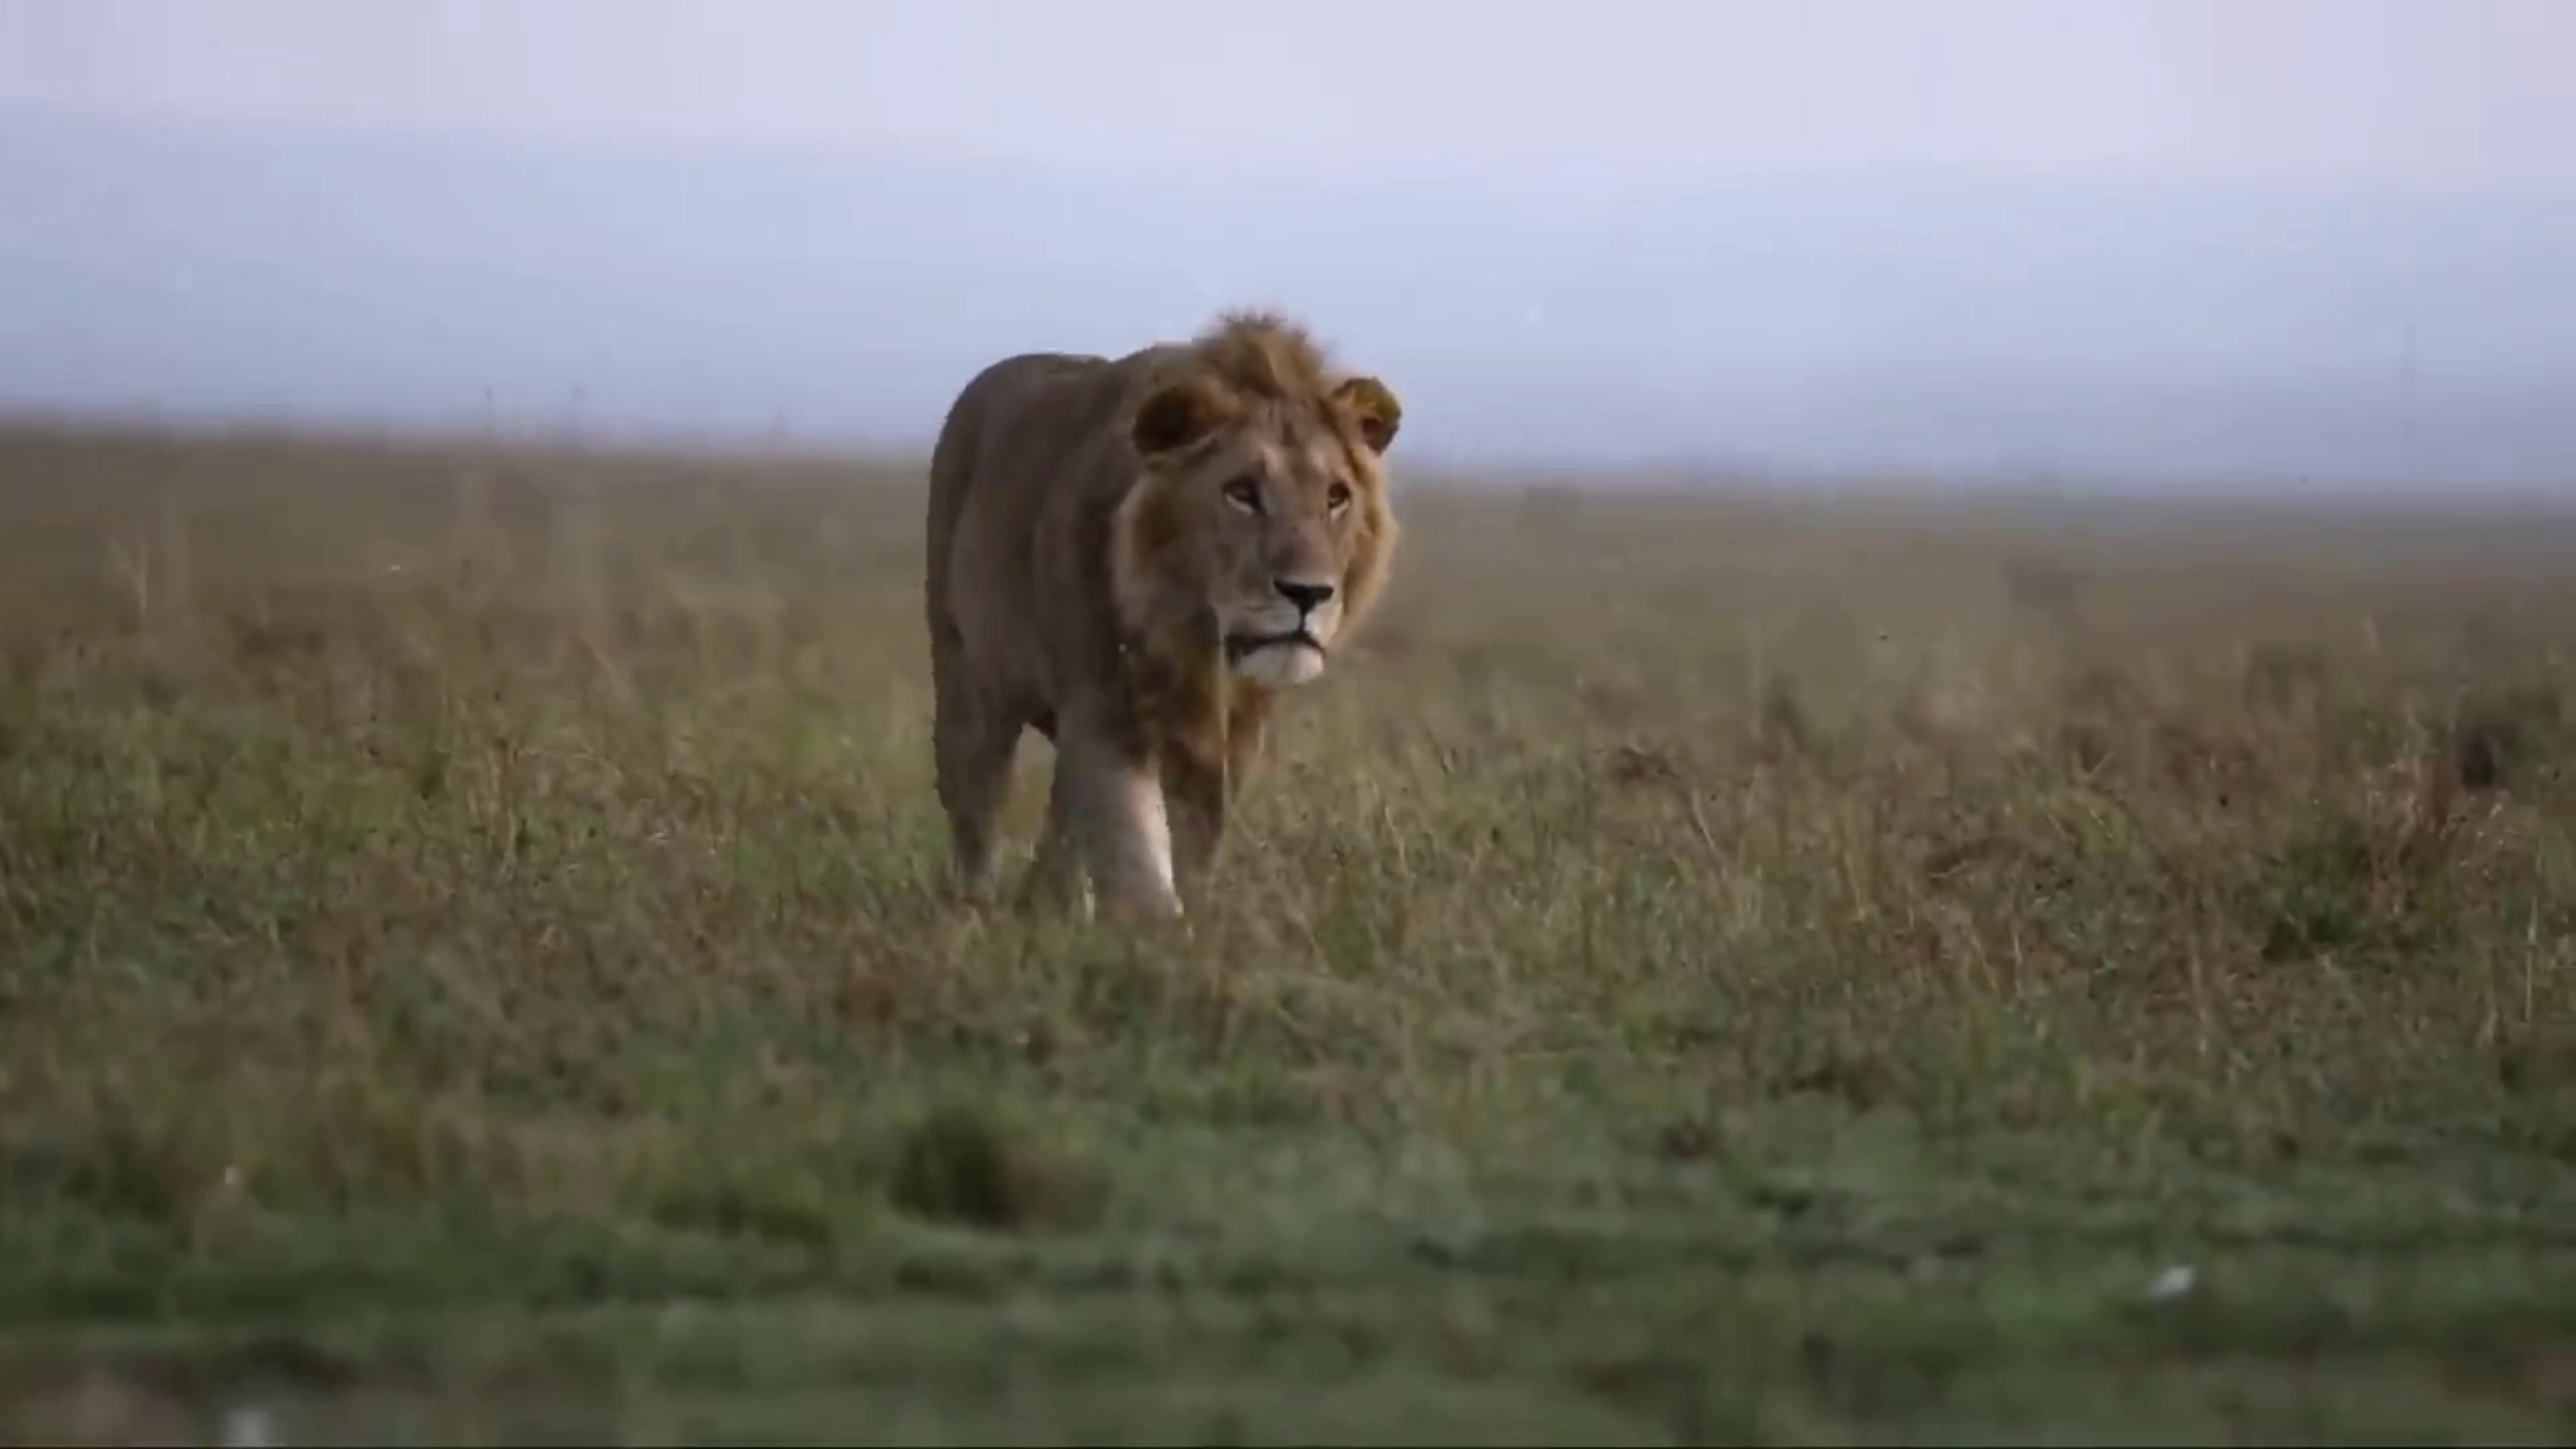Lion: (924, 299, 1405, 947)
